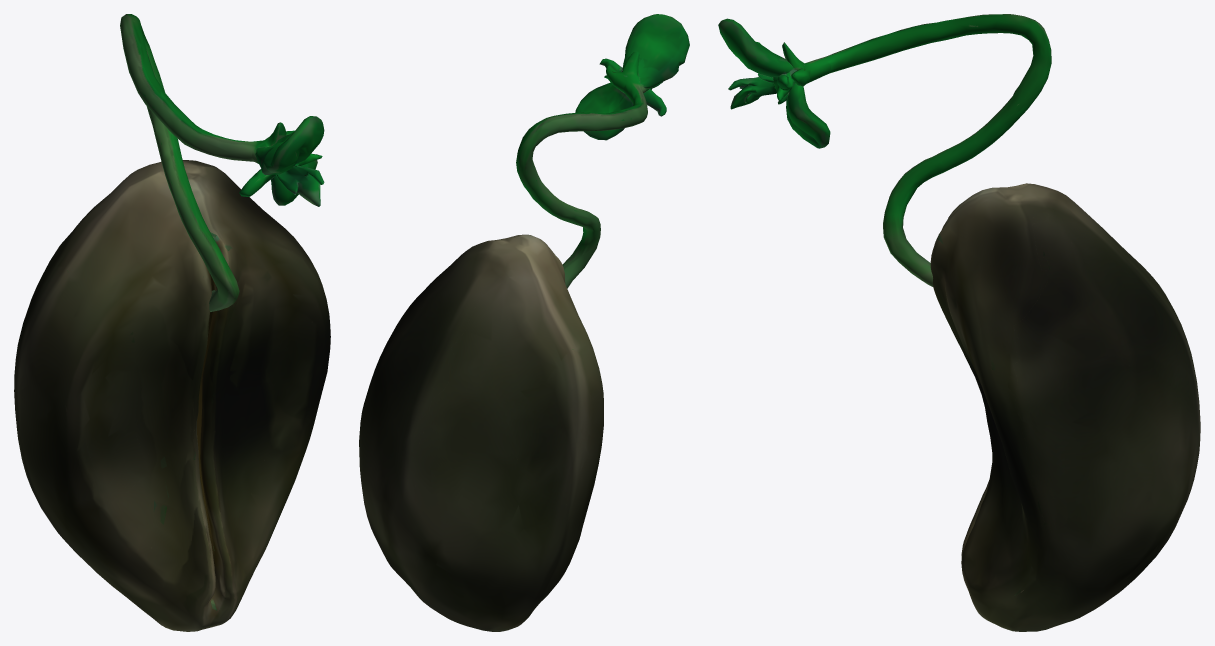
File: piantina.glb
The picture shows the model from 3 angles, left to right: view 1: azimuth 30°, elevation 25°; view 2: azimuth 150°, elevation 25°; view 3: azimuth 270°, elevation 25°; orthographic projection. The views are drawn at different scales.
Visible parts, largest first — view 1: Seed, Baby plant; view 2: Seed, Baby plant; view 3: Seed, Baby plant.
Part boxes in pixels (x1,y1,x2,y2): Seed: (14, 160, 330, 631); Baby plant: (120, 14, 324, 311); Seed: (359, 234, 603, 631); Baby plant: (516, 14, 689, 288); Seed: (930, 183, 1200, 631); Baby plant: (718, 14, 1051, 286).
Size of the model in its own units: 0.9315 by 2.04 by 1.51.
1 material, 1 textured.
